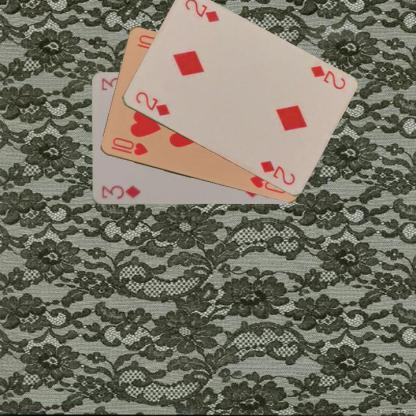10h: (108, 135, 149, 157)
2d: (132, 89, 171, 118), (307, 63, 347, 91)
3d: (100, 183, 142, 201)
